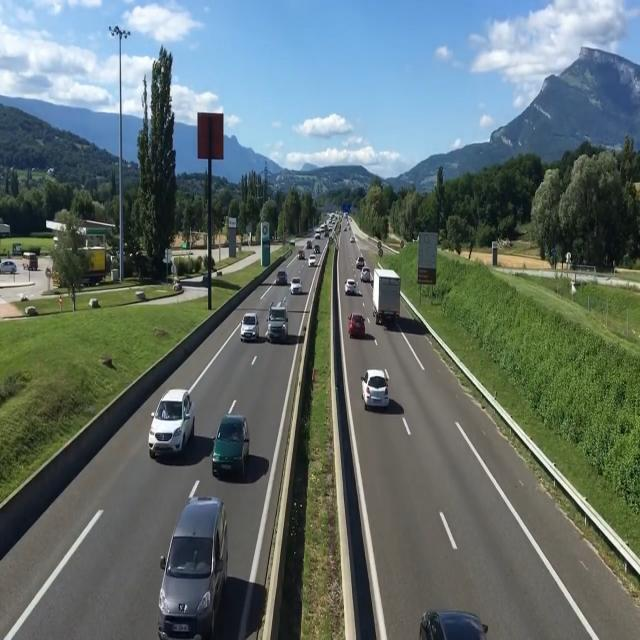car: (157, 487, 228, 640), (151, 387, 195, 465), (212, 406, 250, 480), (416, 604, 490, 640), (362, 370, 392, 415), (266, 303, 290, 345), (239, 308, 261, 345), (350, 308, 370, 342), (345, 274, 359, 299), (360, 260, 373, 284), (290, 275, 302, 299), (277, 266, 288, 286)
truck: (374, 262, 406, 337)
